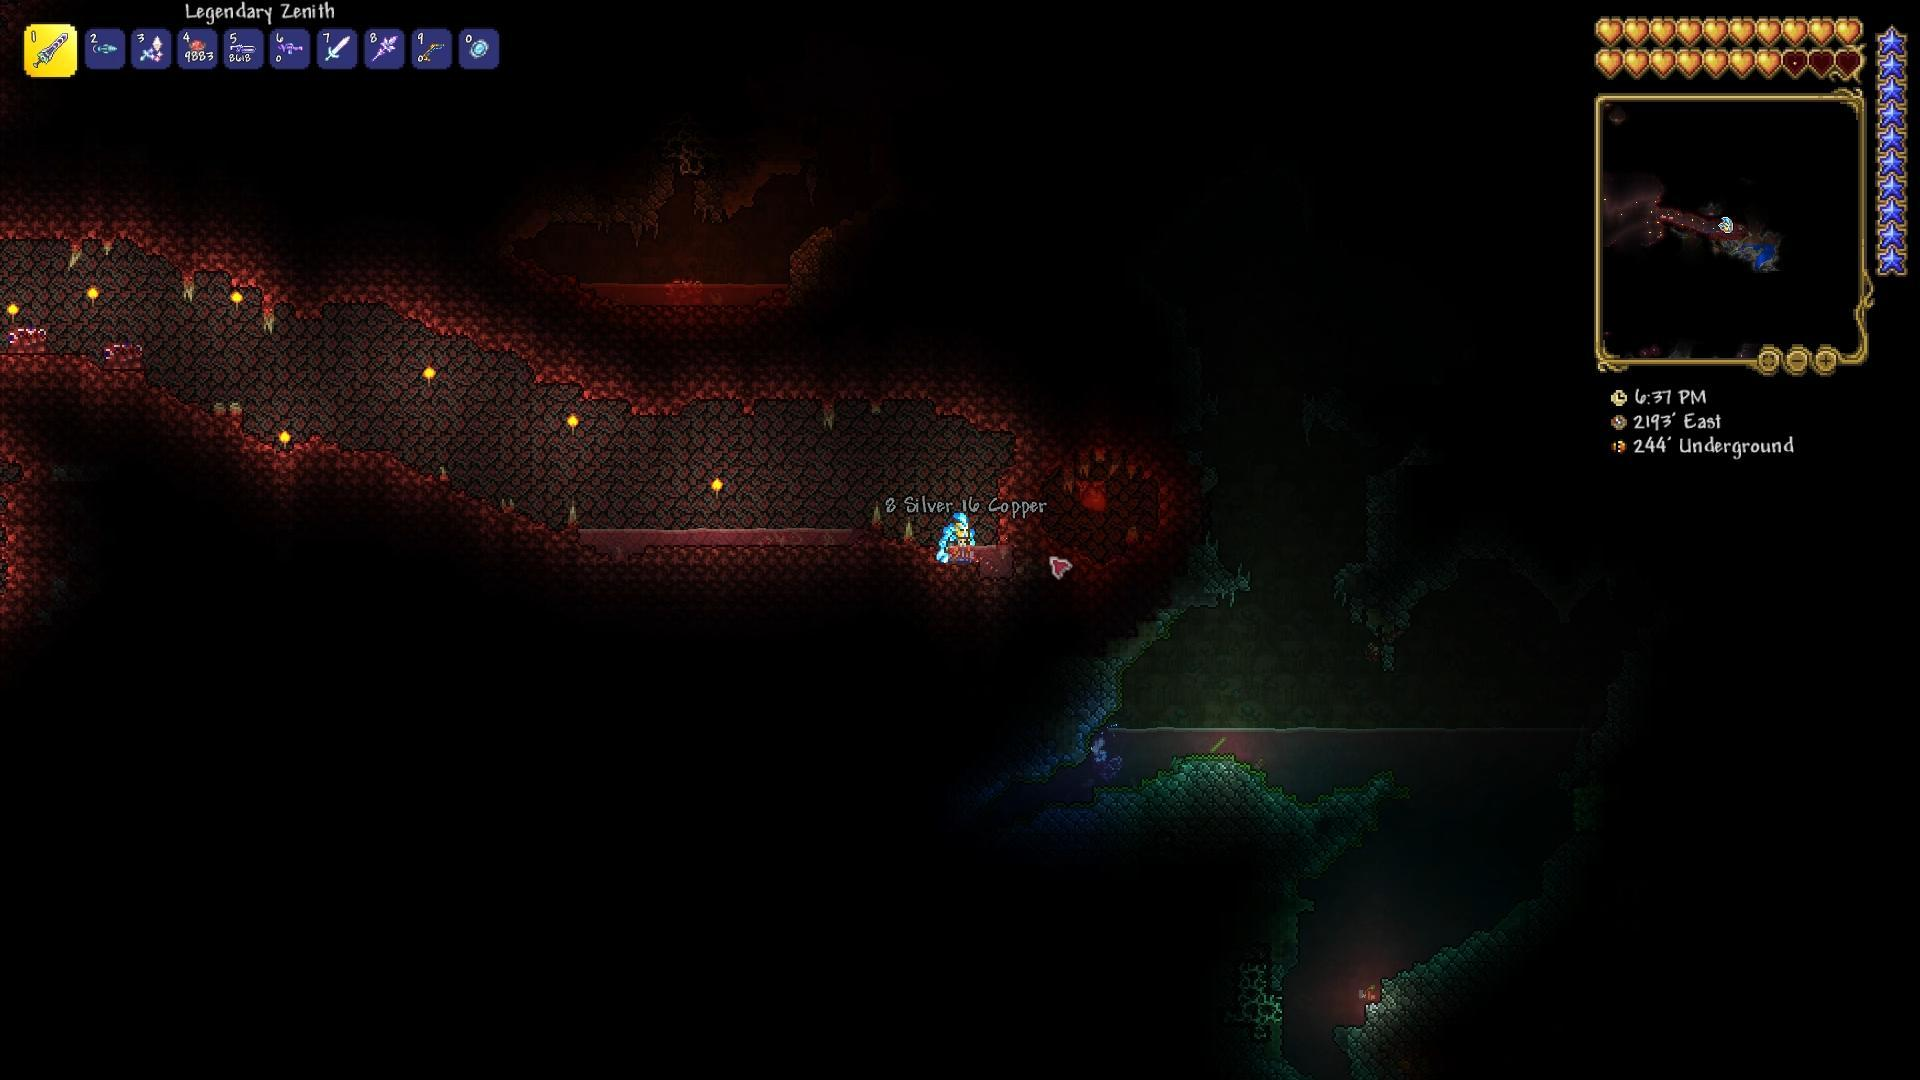altar: (100, 340, 149, 380), (658, 272, 705, 306), (7, 322, 49, 359)
lifeC: (1089, 749, 1130, 785)
mirror: (472, 37, 492, 62)
